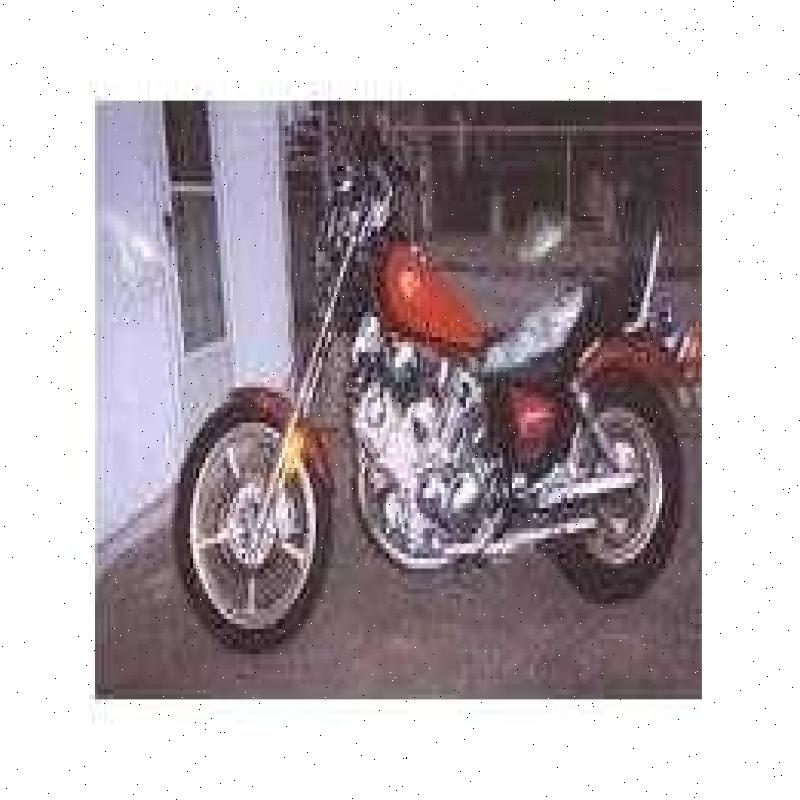bike: (154, 107, 699, 676)
